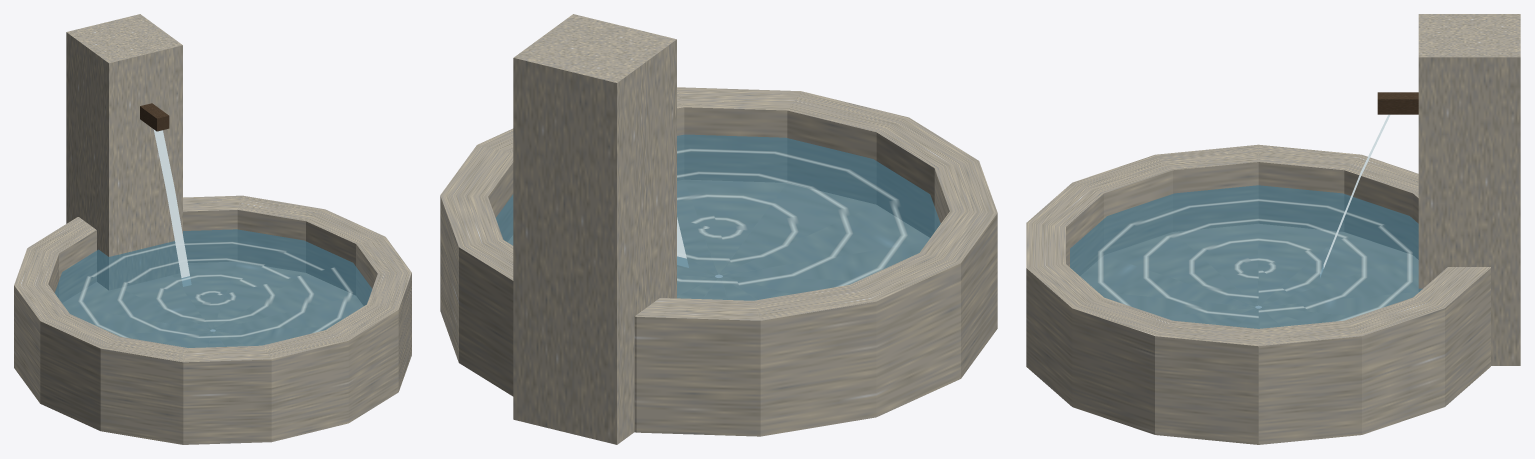
File: brunnen_v5.glb
3 renders of one model, left to right at view 1: azimuth 30°, elevation 25°; view 2: azimuth 150°, elevation 25°; view 3: azimuth 270°, elevation 25°, orthographic. The views are drawn at different scales.
Visible parts, largest first — view 1: V5; view 2: V5; view 3: V5.
Boxes of the visible parts, x1,y1,x2,y2 form: V5: [14, 14, 411, 444]; V5: [440, 14, 997, 444]; V5: [1026, 14, 1520, 444].
Size of the model in its own units: 1.4 by 1 by 1.45.
Materials: 2 (2 with a texture image).
